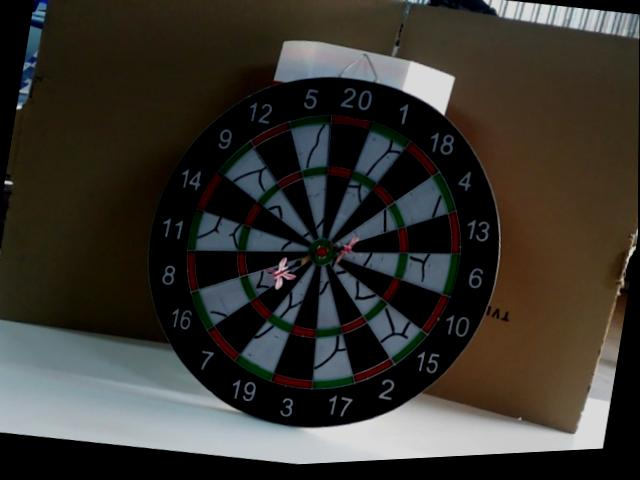bullseye: (307, 237, 337, 267)
